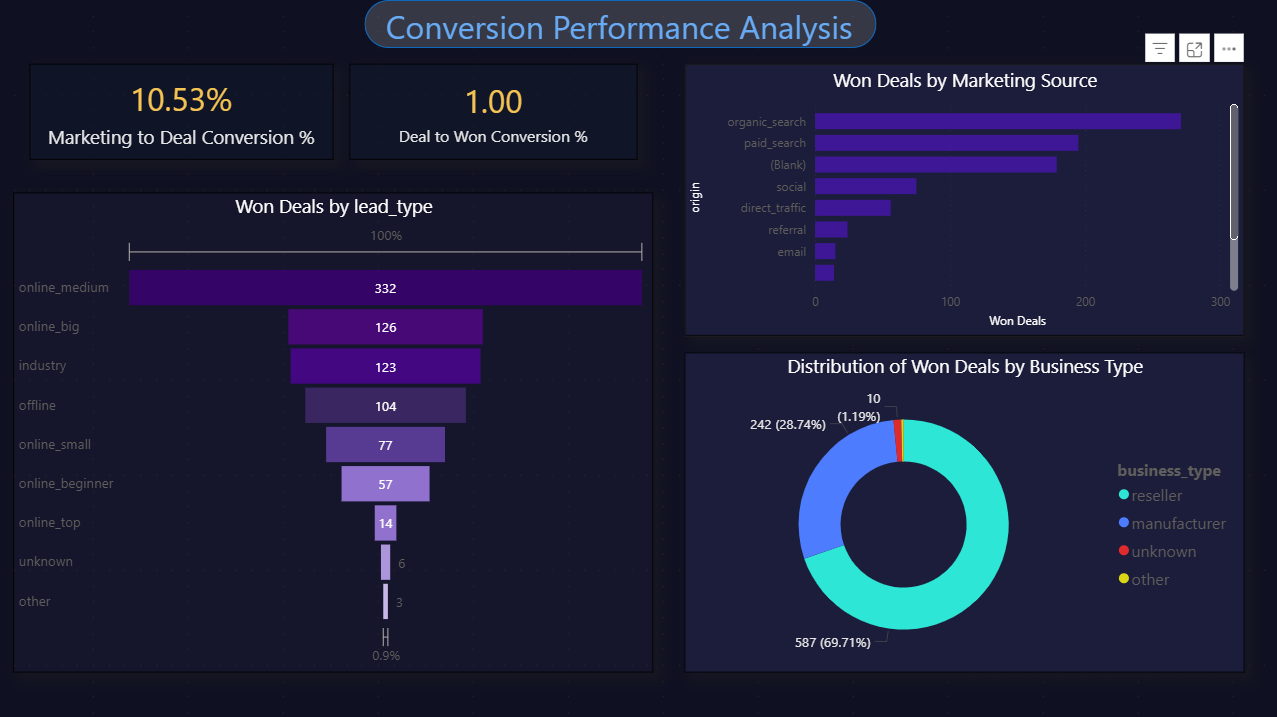

Layout of this report page (visuals, bound fields, positions):
{"tool":"powerbi","page":{"name":"Conversion Performance Analysis","canvas":[1280,720],"ordinal":1},"visuals":[{"type":"textbox","box":[384,0,496,64],"z":0},{"type":"clusteredBarChart","title":"Won Deals by Marketing Source","fields":{"Category":["marketing_leads.origin"],"Y":["cleaned_data.Won Deals"]},"box":[688,64,560,272],"z":1000},{"type":"donutChart","title":"Distribution of Won Deals by Business Type","fields":{"Y":["cleaned_data.Won Deals"],"Category":["cleaned_data.business_type"]},"box":[688,352,560,320],"z":2000},{"type":"card","fields":{"Values":["cleaned_data.Deal to Won Conversion %"]},"box":[352,64,288,96],"z":3000},{"type":"shape","box":[368,0,512,48],"z":4000},{"type":"card","fields":{"Values":["cleaned_data.Marketing to Deal Conversion %"]},"box":[32,64,304,96],"z":5000},{"type":"funnel","fields":{"Category":["cleaned_data.lead_type"],"Y":["cleaned_data.Won Deals"]},"box":[16,192,640,480],"z":6000}]}

Visuals, with their boxes in screenshot pixels (x1, y1, x2, y2), scaled from the page's 1280x720 canvas onto the 1277x717 screenshot:
textbox: select_region(383, 0, 878, 64)
"Won Deals by Marketing Source" clusteredBarChart: select_region(686, 64, 1245, 335)
"Distribution of Won Deals by Business Type" donutChart: select_region(686, 351, 1245, 669)
card - cleaned_data.Deal to Won Conversion %: select_region(351, 64, 638, 159)
shape: select_region(367, 0, 878, 48)
card - cleaned_data.Marketing to Deal Conversion %: select_region(32, 64, 335, 159)
funnel - cleaned_data.lead_type x cleaned_data.Won Deals: select_region(16, 191, 654, 669)
